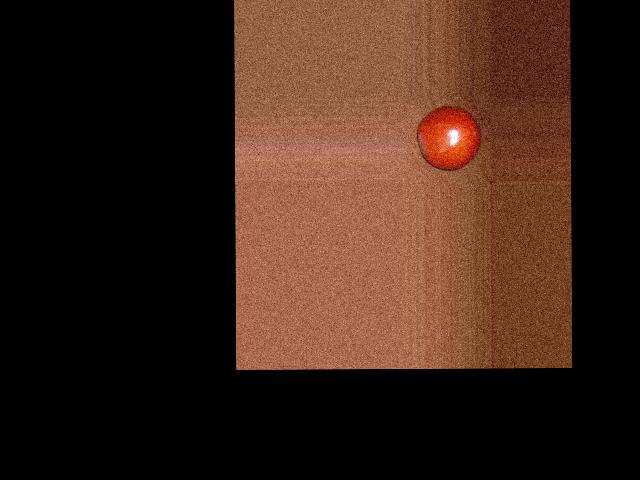tomato: (417, 104, 481, 170)
